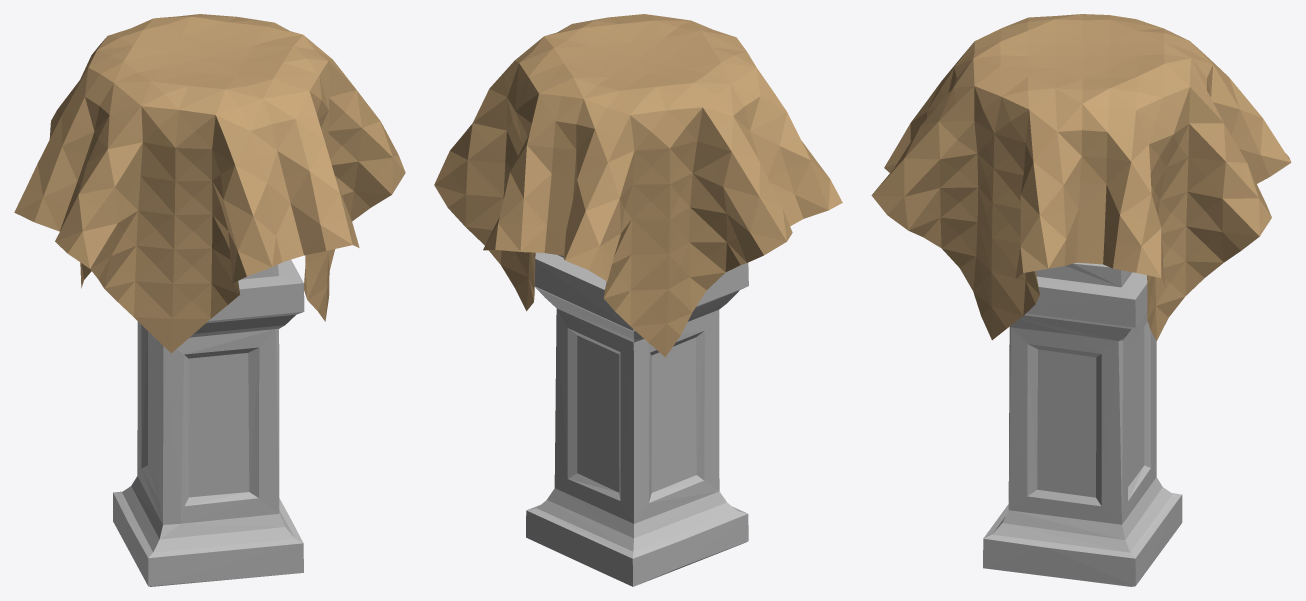
The model's file is level_0.glb.
The picture shows the model from 3 angles, left to right: view 1: azimuth 30°, elevation 25°; view 2: azimuth 150°, elevation 25°; view 3: azimuth 270°, elevation 25°; orthographic projection.
Parts seen in each view (by area): view 1: world, object.obj; view 2: world, object.obj; view 3: world, object.obj.
Boxes of the visible parts, x1,y1,x2,y2 form: world: [14, 14, 405, 353]; object.obj: [113, 259, 304, 586]; world: [434, 14, 842, 357]; object.obj: [526, 252, 748, 586]; world: [871, 14, 1291, 340]; object.obj: [983, 262, 1182, 586].
Bounding box in the file's own units: 0.3566 × 0.4853 × 0.3739.
